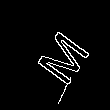M_NW: (22, 16, 87, 83)
